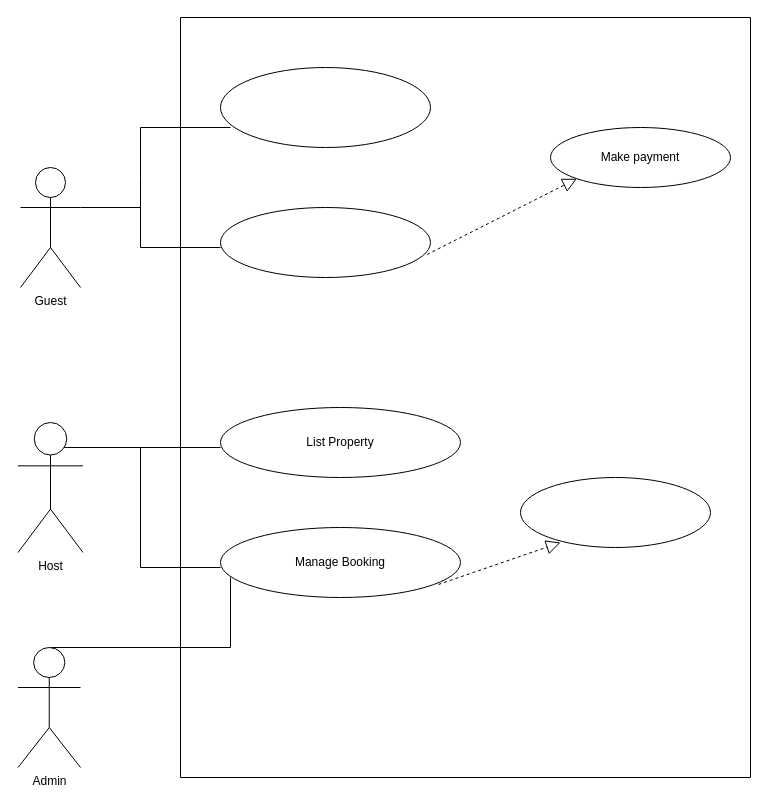
This 768x806 diagram has some shape labels left out. The centre of each missing label's shape, as x and y in pixels:
"Admin Dashboard" goes at point (615, 512).
"Book property" goes at point (325, 242).
"Creates an account" goes at point (325, 107).
